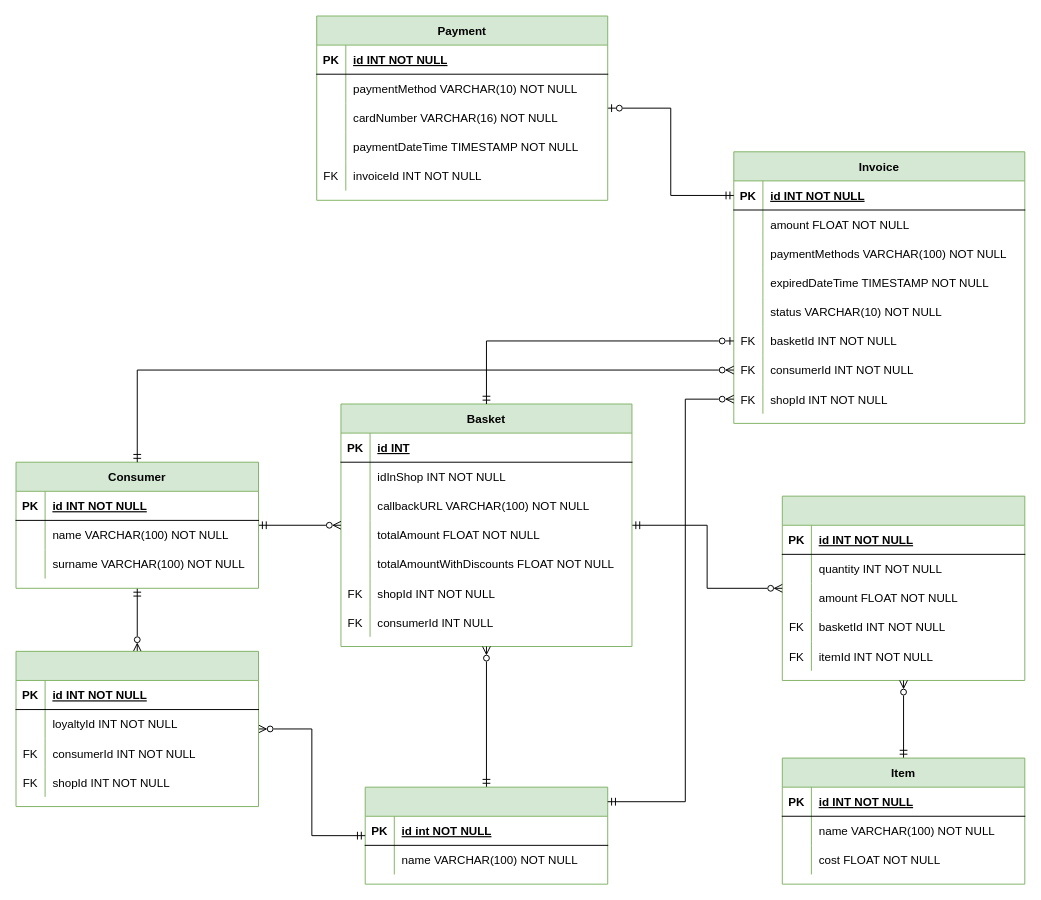
The diagram is 1041 pixels wide and 900 high, and some of its shapes have lost their labels. Each missing label, with the box of its shape:
ConsumerInShop: (15, 650, 259, 807)
ItemInBasket: (781, 495, 1025, 680)
Shop: (364, 786, 608, 884)
